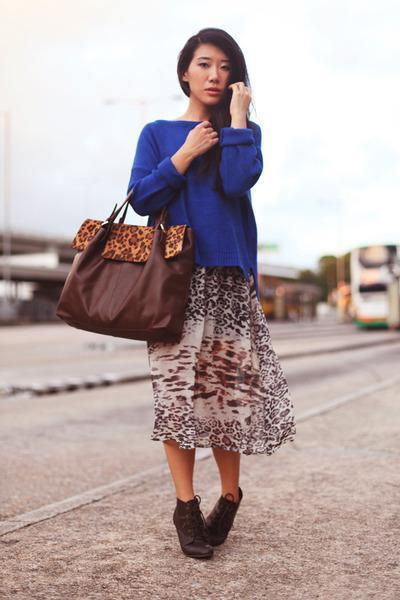bag: (50, 211, 200, 347)
shirt: (117, 114, 262, 275)
shoe: (173, 492, 242, 561)
skirt: (139, 266, 295, 459)
